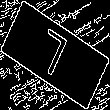L_SW: (34, 25, 76, 85)
